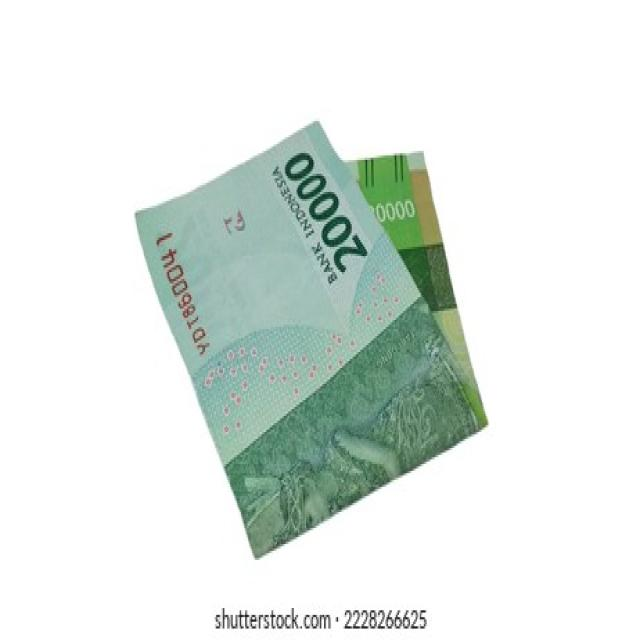dua puluh ribu rupiah: (136, 123, 485, 555)
